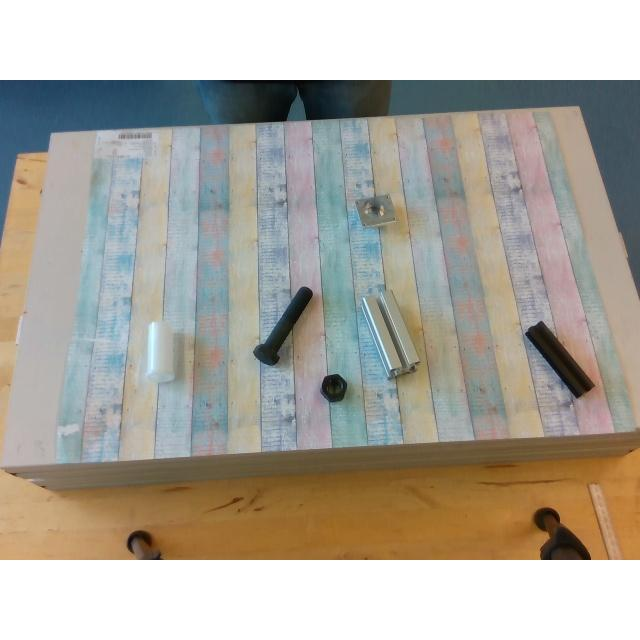F20_20_B: (524, 322, 592, 393)
M20: (322, 374, 346, 400)
M20_100: (252, 286, 312, 362)
S40_40_G: (358, 290, 418, 376)
Spacer: (144, 320, 176, 384)
